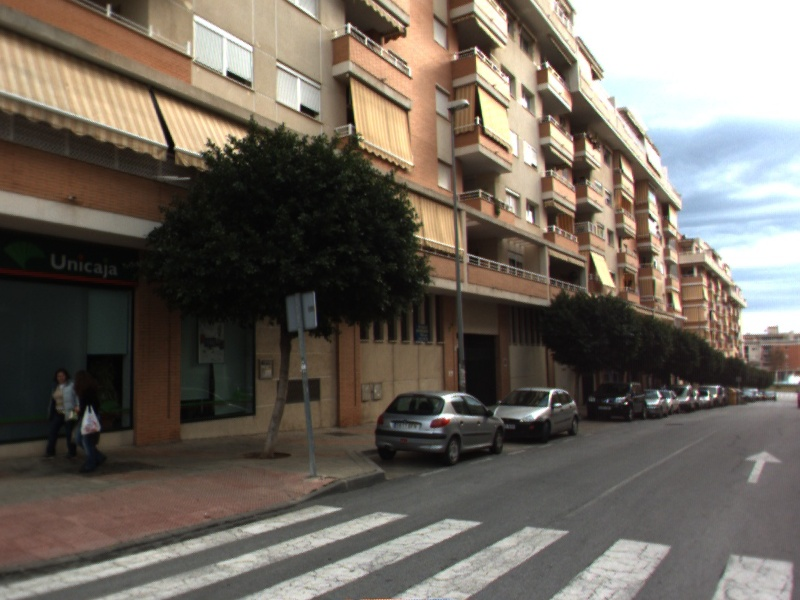STRAIGHT: (742, 448, 784, 485)
